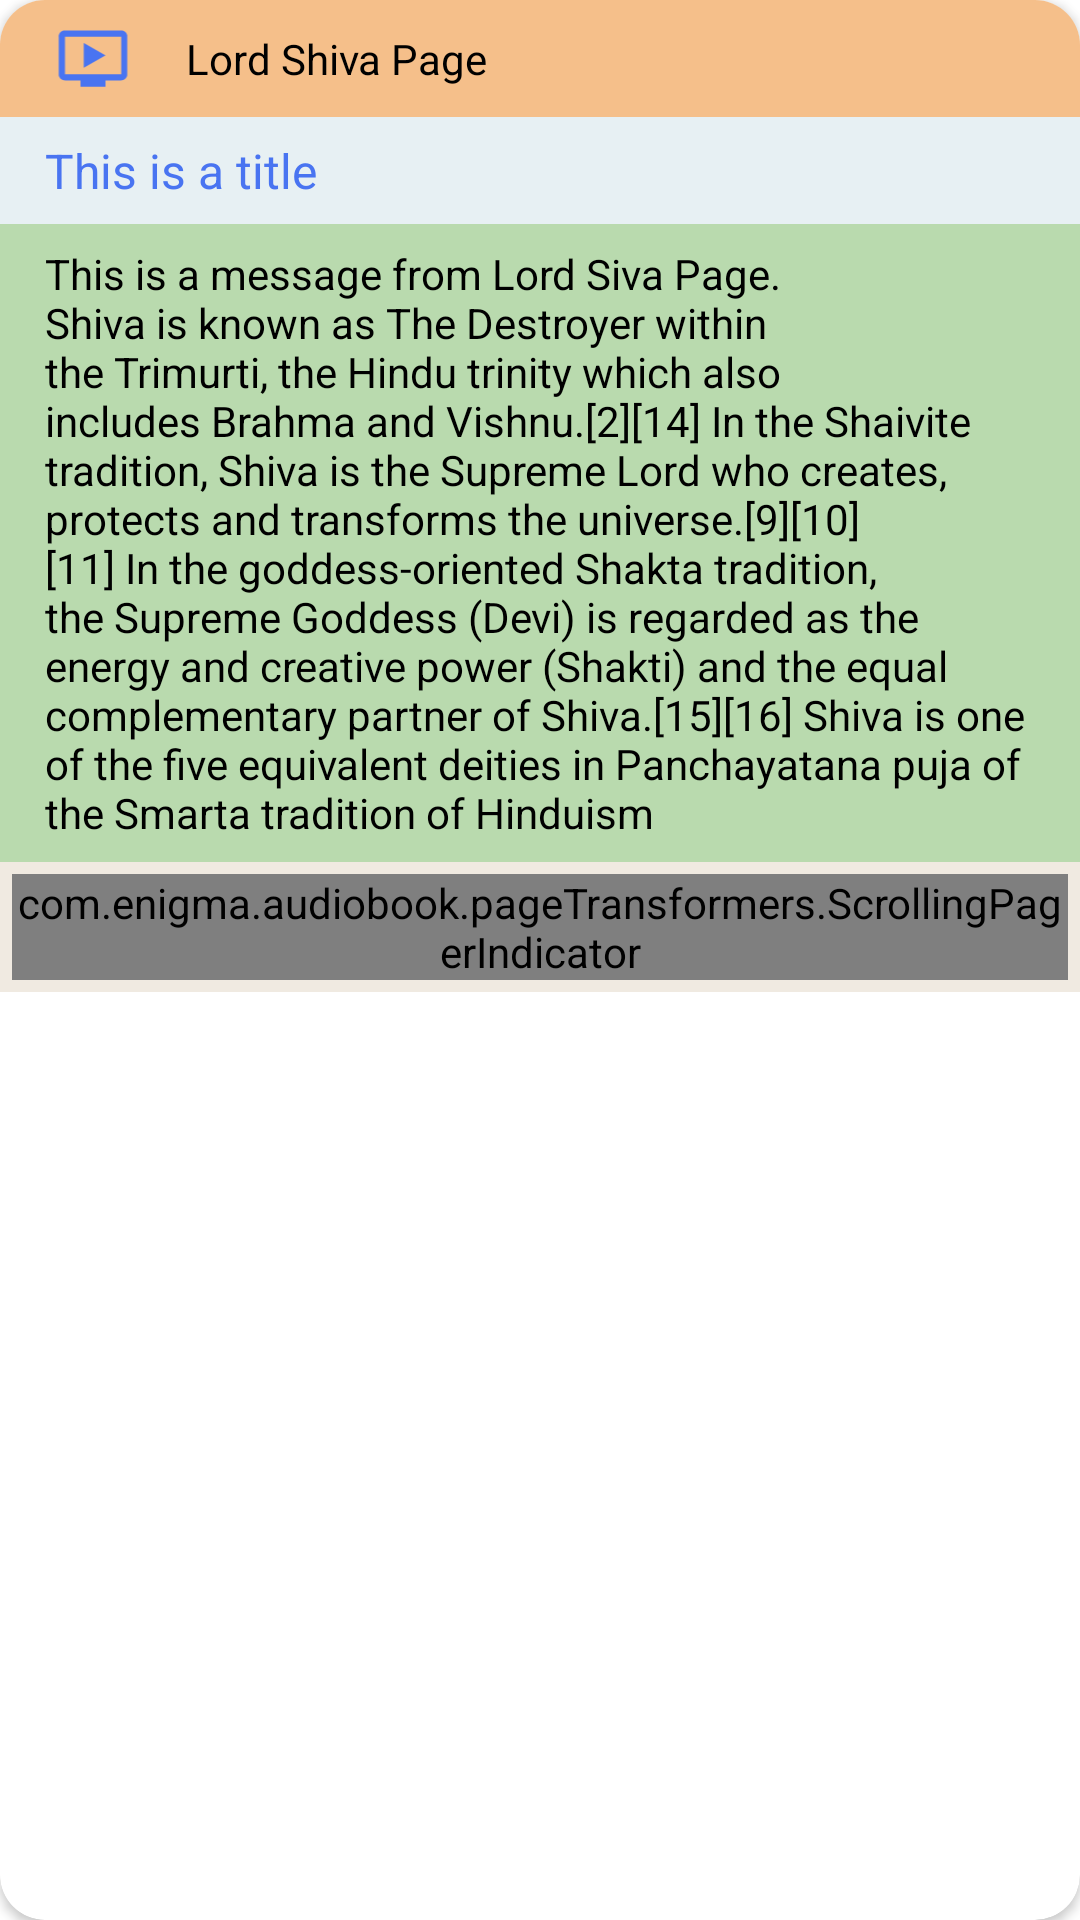

Icon click points for this 1080x1920 phone screenshot, format (x=x, y=y):
ondemand video: (x=93, y=58)
